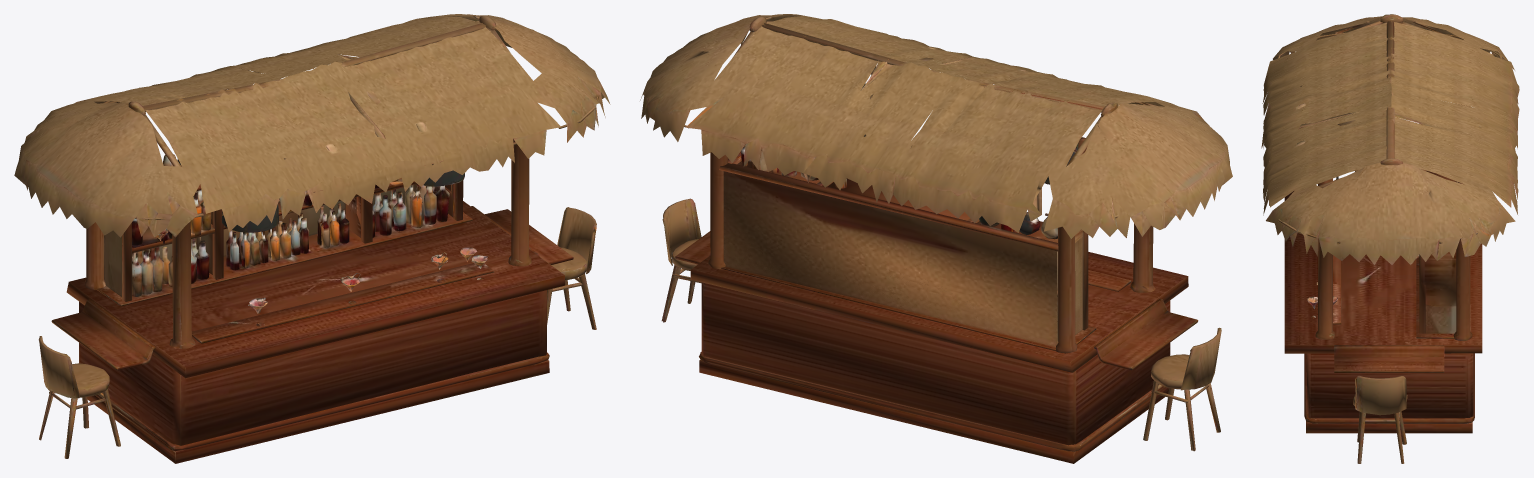
File: bar.glb
The picture shows the model from 3 angles, left to right: view 1: azimuth 30°, elevation 25°; view 2: azimuth 150°, elevation 25°; view 3: azimuth 270°, elevation 25°; orthographic projection. The views are drawn at different scales.
Bounding box in the file's own units: 0.957 × 0.5381 × 0.4658.
1 material, 1 textured.
